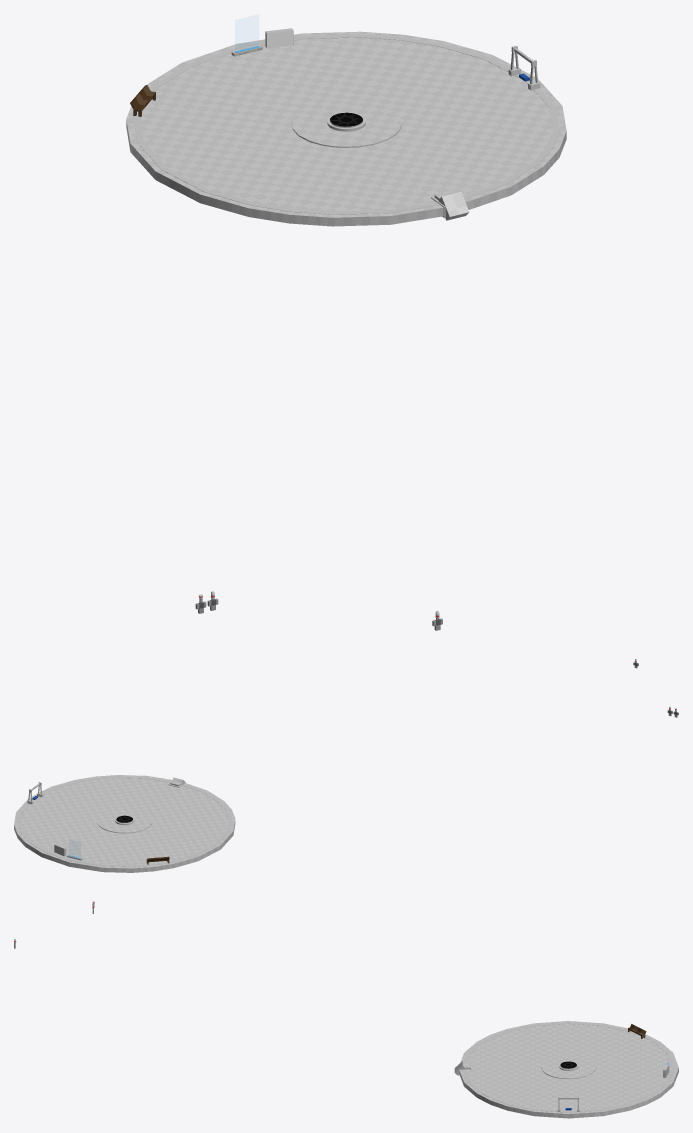
The model's file is Lobby.obj.
3 views of the same model, one above another, from view 1: azimuth 30°, elevation 25°; view 2: azimuth 150°, elevation 25°; view 3: azimuth 270°, elevation 25° (orthographic). The views are drawn at different scales.
Visible parts, largest first — view 1: Base1, Ring1, Thrustersupport1; view 2: Base1, Ring1, Thrustersupport1; view 3: Base1, Ring1, Thrustersupport1.
Part boxes in pixels (x1,y1,x2,y2): Base1: [126, 31, 566, 226]; Ring1: [133, 34, 559, 214]; Thrustersupport1: [291, 100, 401, 147]; Base1: [14, 775, 235, 872]; Ring1: [17, 776, 231, 866]; Thrustersupport1: [97, 809, 152, 833]; Base1: [459, 1021, 678, 1118]; Ring1: [463, 1022, 675, 1112]; Thrustersupport1: [541, 1055, 596, 1079].
Bounding box in the file's own units: 342 × 25 × 482.
